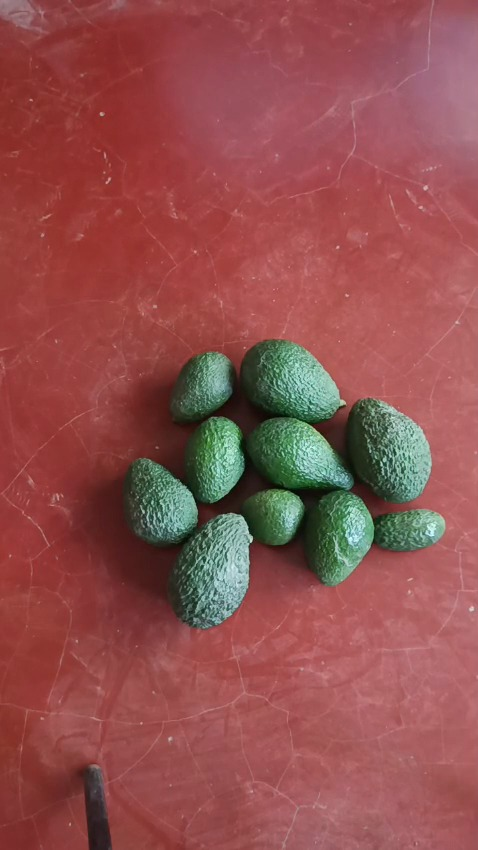Primera: (167, 512, 253, 626), (346, 397, 432, 502), (240, 339, 340, 422), (245, 417, 355, 492), (123, 458, 197, 547)
Segunda: (303, 489, 374, 584), (183, 417, 245, 502)
Tercera: (170, 351, 236, 423), (239, 487, 305, 546), (372, 509, 444, 551)
